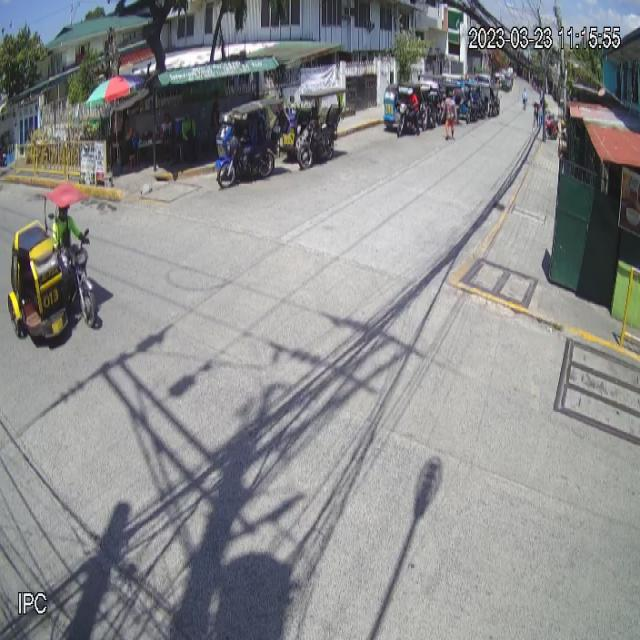Tricycle: (7, 183, 104, 341)
